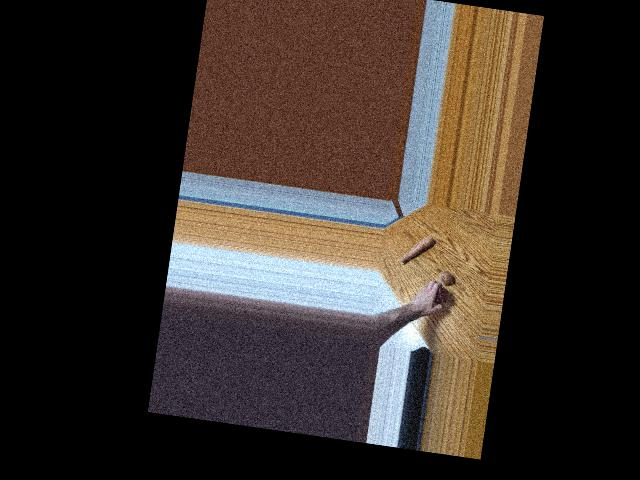onion: (429, 285, 447, 305)
